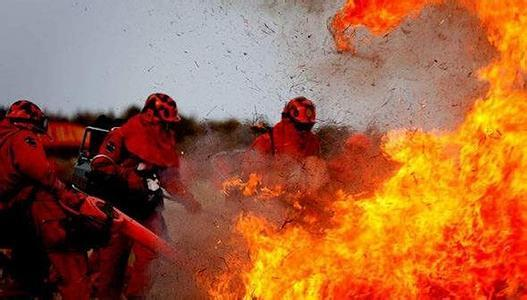fire: (269, 139, 520, 289)
